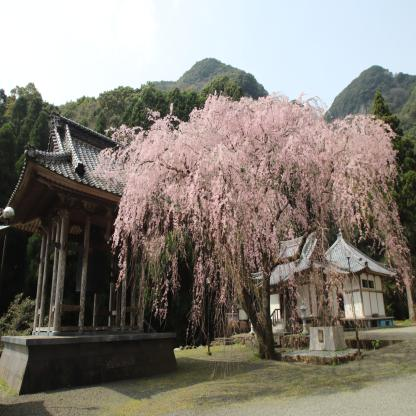ShidareZakura: (90, 91, 416, 378)
